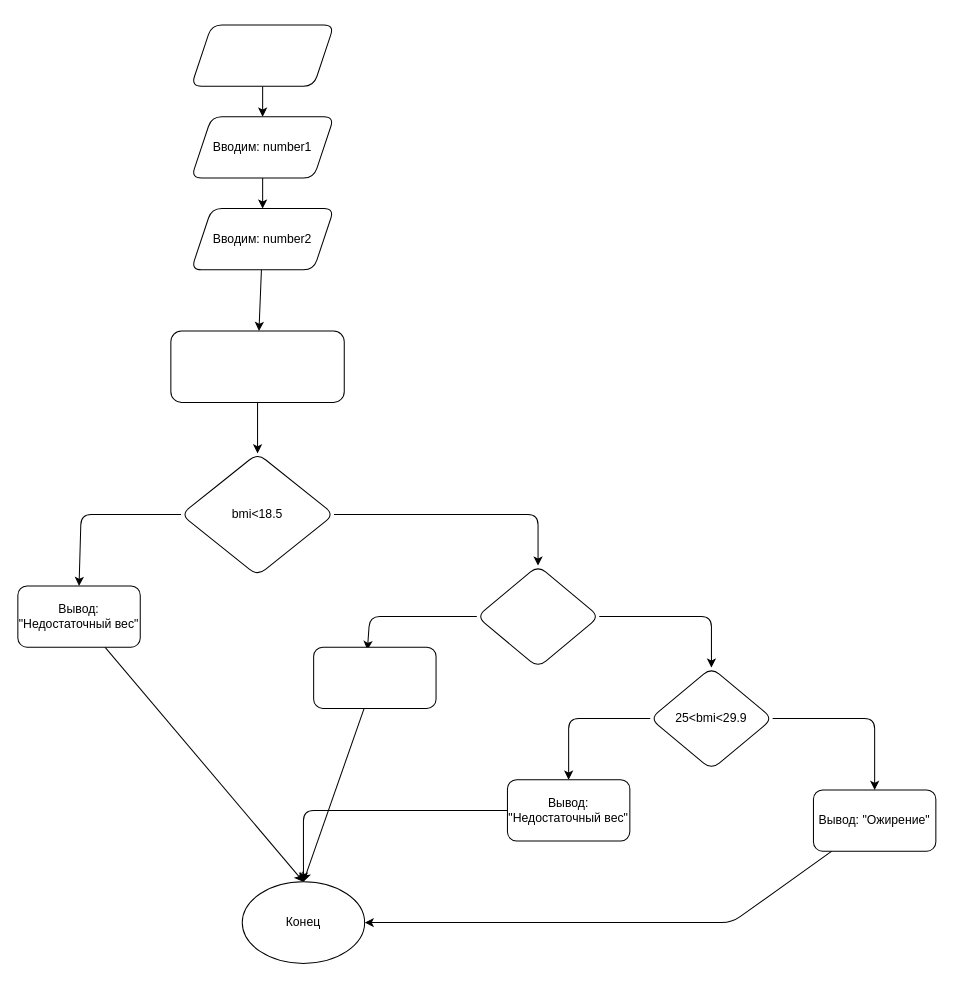
Some shapes in this 954 by 981 pixel diagram are drawn without their labels. Each missing label, with the centre of its shape:
18.5< bmi <24.9: (537,616)
bmi=number1/( number1 )^2: (257,366)
Вывод: "Нормальный вес ": (374,677)
Выводим:result: (262,55)
